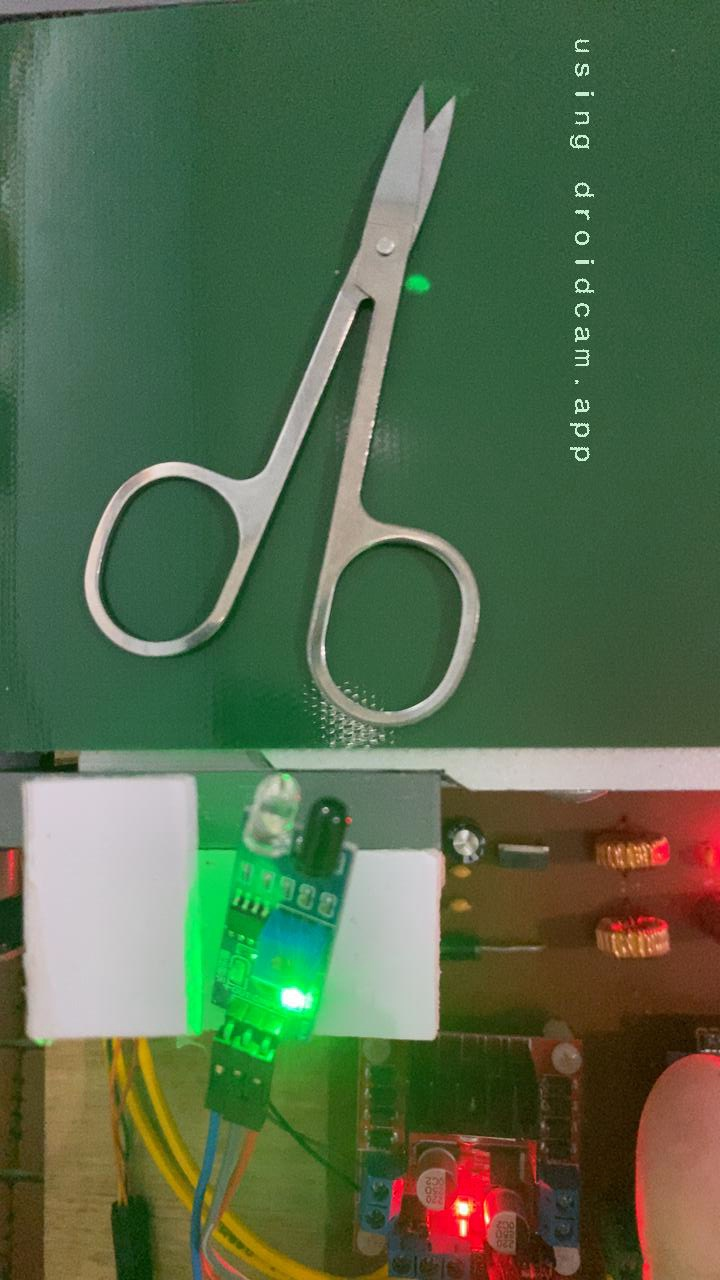scissor: (77, 82, 488, 732)
